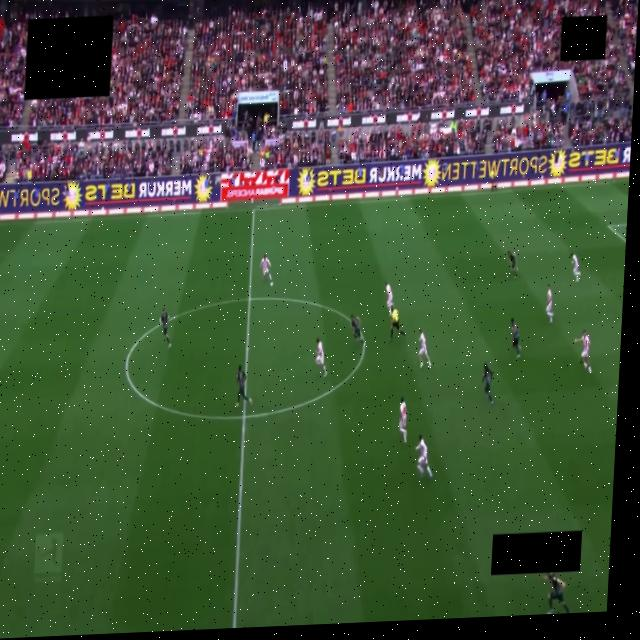ball: (270, 282, 272, 286)
player: (543, 573, 568, 613), (480, 362, 496, 406), (574, 331, 591, 372), (415, 435, 431, 478), (235, 365, 251, 407), (398, 396, 409, 443), (418, 330, 430, 368), (159, 308, 170, 347), (350, 315, 364, 345), (315, 338, 326, 376), (260, 255, 272, 286), (511, 318, 520, 358), (545, 285, 552, 323), (570, 254, 579, 283), (507, 251, 517, 277), (385, 282, 392, 316)
referee: (389, 306, 405, 341)
